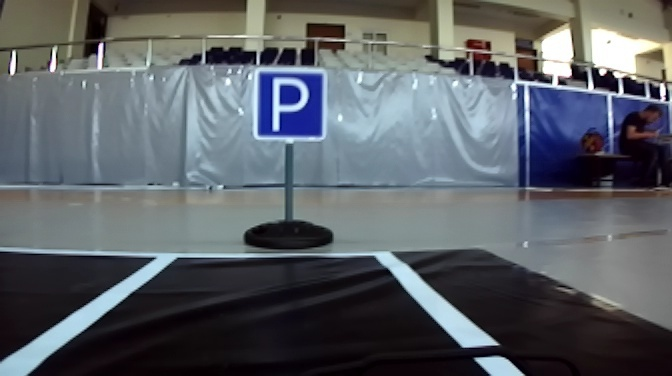park: (254, 67, 326, 140)
